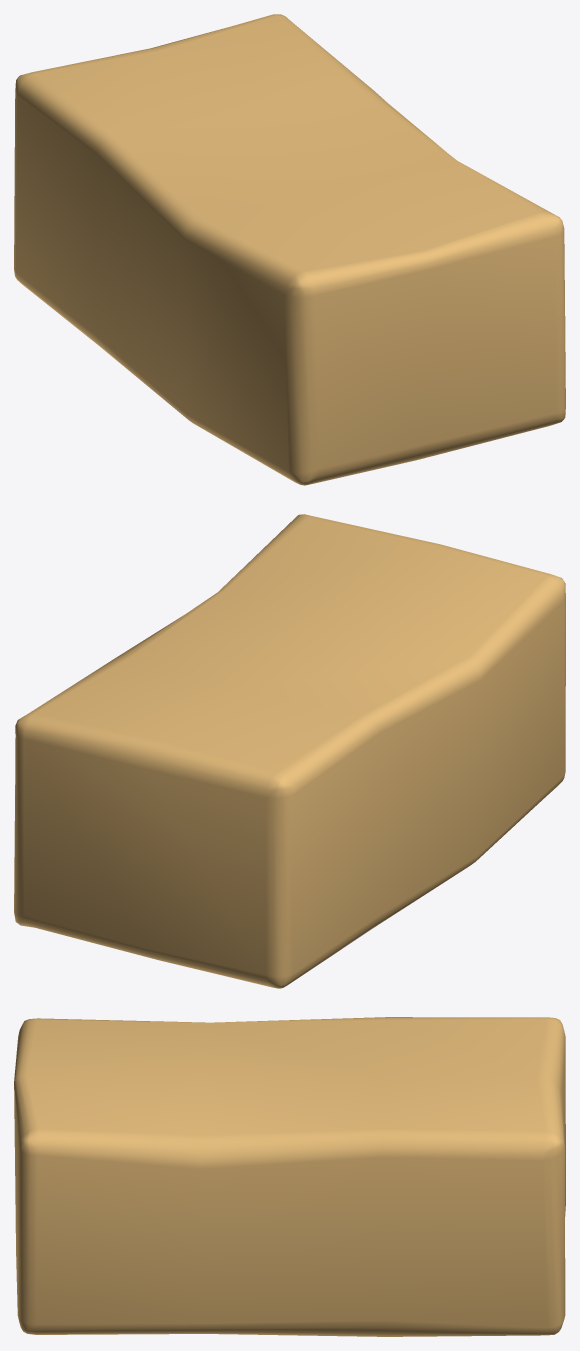
Rendered from butter.fbx.
The picture shows the model from 3 angles, top to bottom: view 1: azimuth 30°, elevation 25°; view 2: azimuth 150°, elevation 25°; view 3: azimuth 270°, elevation 25°; orthographic projection. The views are drawn at different scales.
Visible parts, largest first — view 1: Cube; view 2: Cube; view 3: Cube.
Part boxes in pixels (x1=…): Cube: x1=14, y1=14, x2=565, y2=485; Cube: x1=14, y1=514, x2=565, y2=988; Cube: x1=14, y1=1017, x2=565, y2=1336.
Size of the model in its own units: 19.42 by 14.6 by 34.24.
